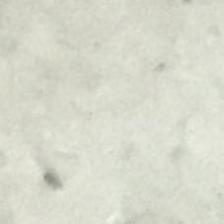Non_Crack: (12, 12, 216, 218)
